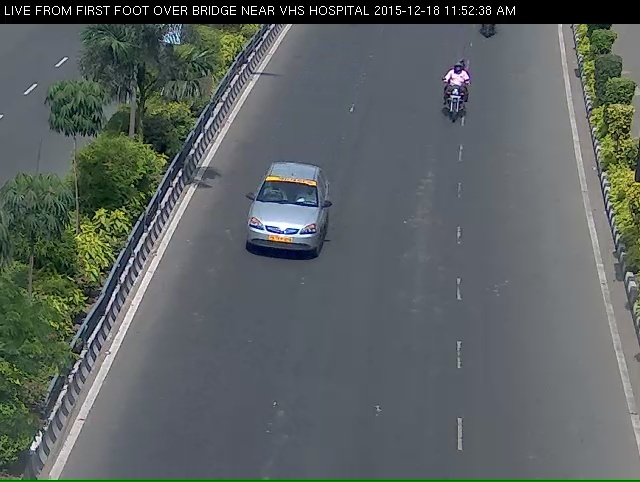Car: (241, 183, 331, 279)
Person: (436, 65, 474, 131)
